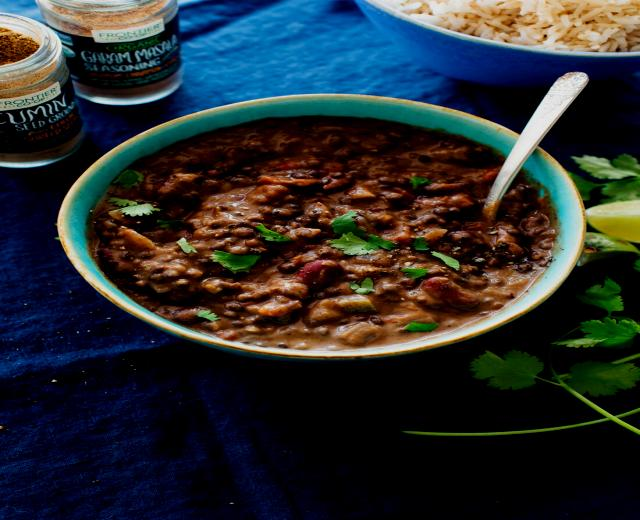dal makhni: (57, 92, 578, 354), (349, 0, 633, 88)
